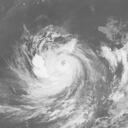cyclone: (32, 45, 93, 98)
